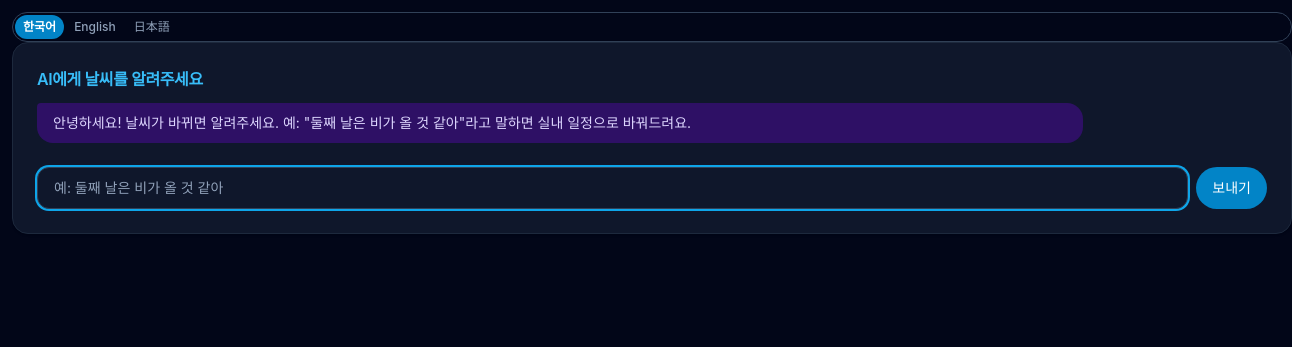
Test: ItineraryChat › re-renders an already-sent AI reply in the newly selected language, keeping raw user-provided text untranslated inside it
Type "2일차에 디즈니랜드로 가줘" into the field named "메시지 입력" at (613, 188), box [37,167,1188,209]
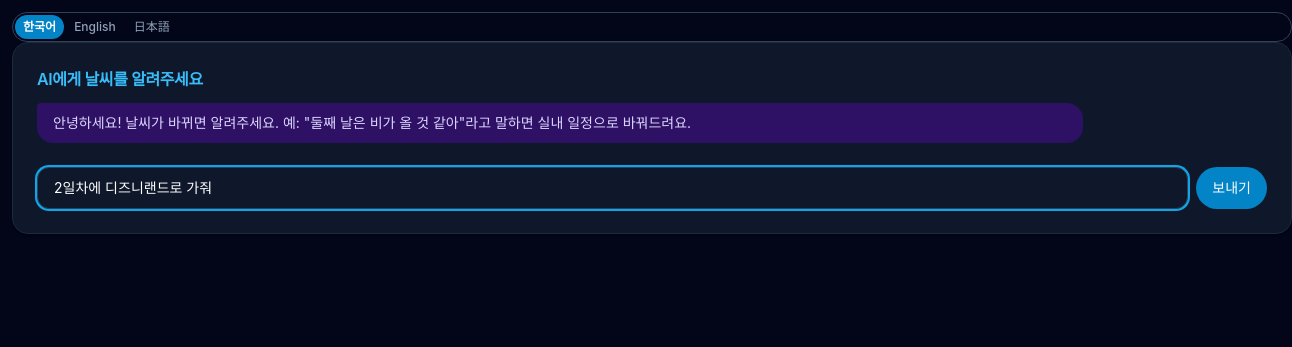
Click the button "보내기" at (1232, 188), box [1196,167,1267,209]
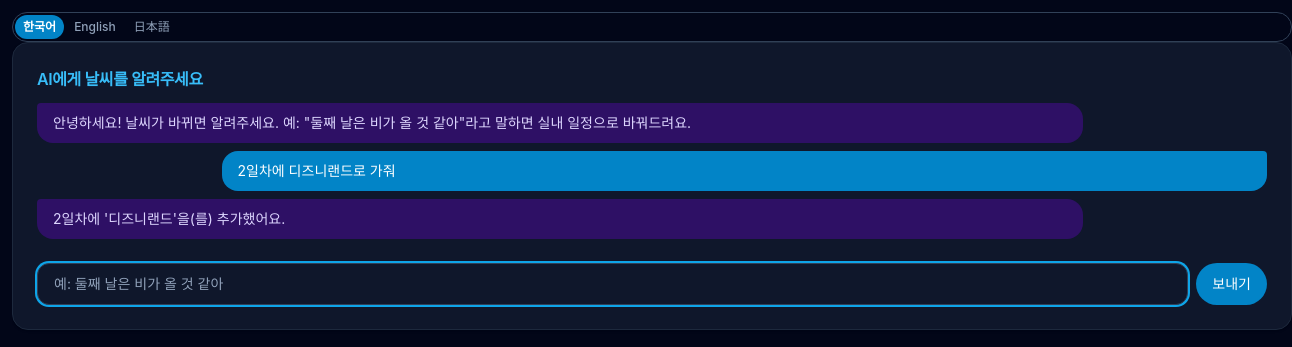
Now the text "2일차에 '디즈니랜드'을(를) 추가했어요." is shown, box [37,199,1082,239]
Click the button "English" at (95, 27), box [66,15,124,39]
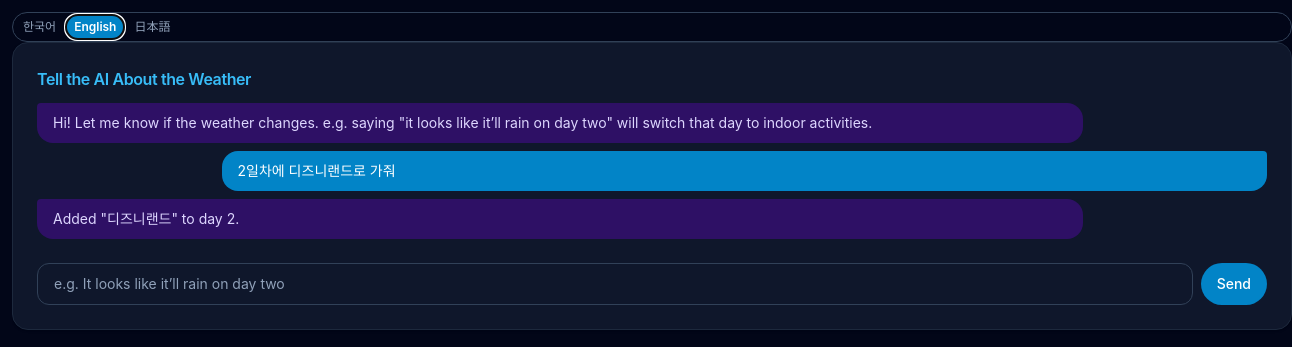
Now the text "Added \"디즈니랜드\" to day 2." is shown, box [37,199,1082,239]
Now the text "추가했어요" is gone
